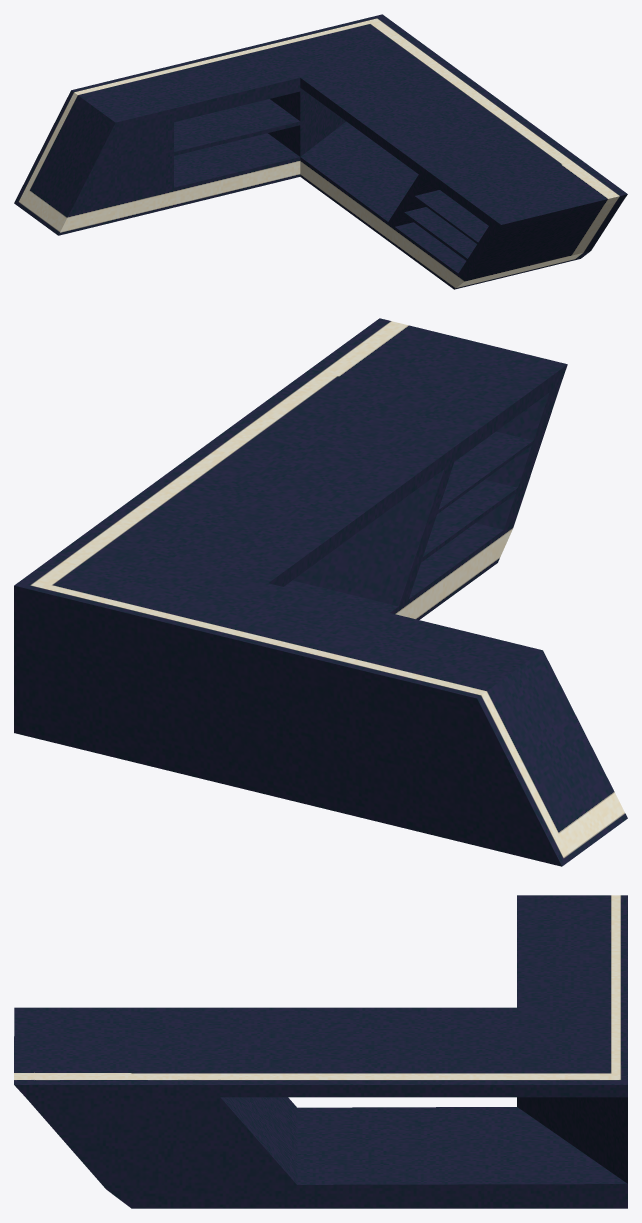
File: Desk.fbx
The picture shows the model from 3 angles, top to bottom: view 1: azimuth 30°, elevation 25°; view 2: azimuth 150°, elevation 25°; view 3: azimuth 270°, elevation 25°; orthographic projection. The views are drawn at different scales.
Visible parts, largest first — view 1: Desk; view 2: Desk; view 3: Desk.
Boxes of the visible parts, bbox=[...] form: Desk: bbox=[14, 14, 627, 289]; Desk: bbox=[14, 318, 627, 866]; Desk: bbox=[14, 895, 627, 1208].
Size of the model in its own units: 246 by 63.25 by 284.
Materials: 2 (2 with a texture image).
